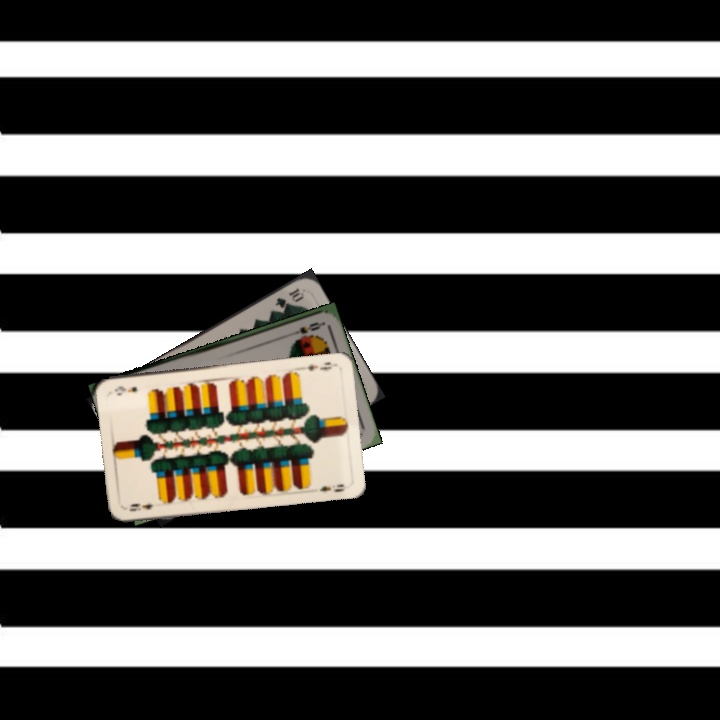E9: (297, 358, 334, 373), (125, 499, 156, 514)
G10: (271, 284, 307, 311)
SO: (285, 318, 325, 339)
